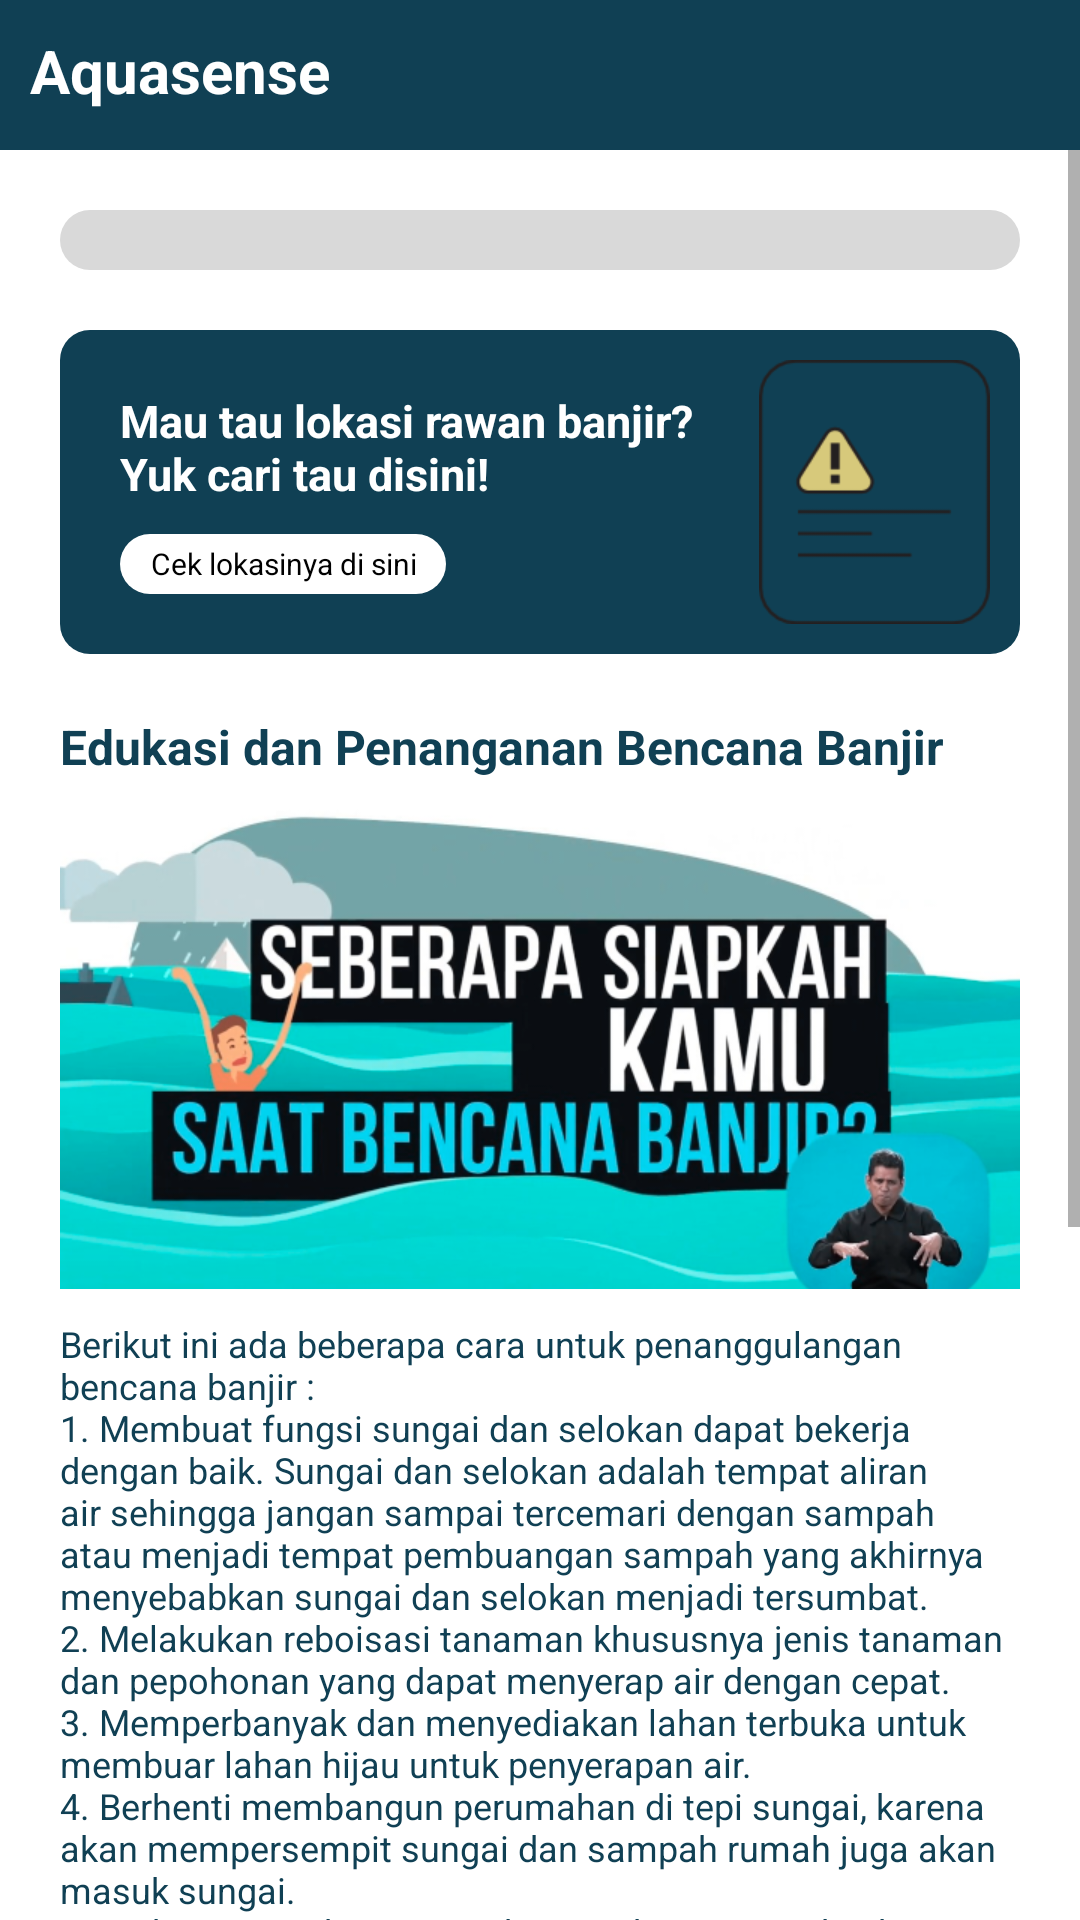

Screen size 1080 x 1920. Icon name, then its box in pixels as bbox=(x1, y1, x2, y2):
alert: bbox=(759, 360, 990, 624)
